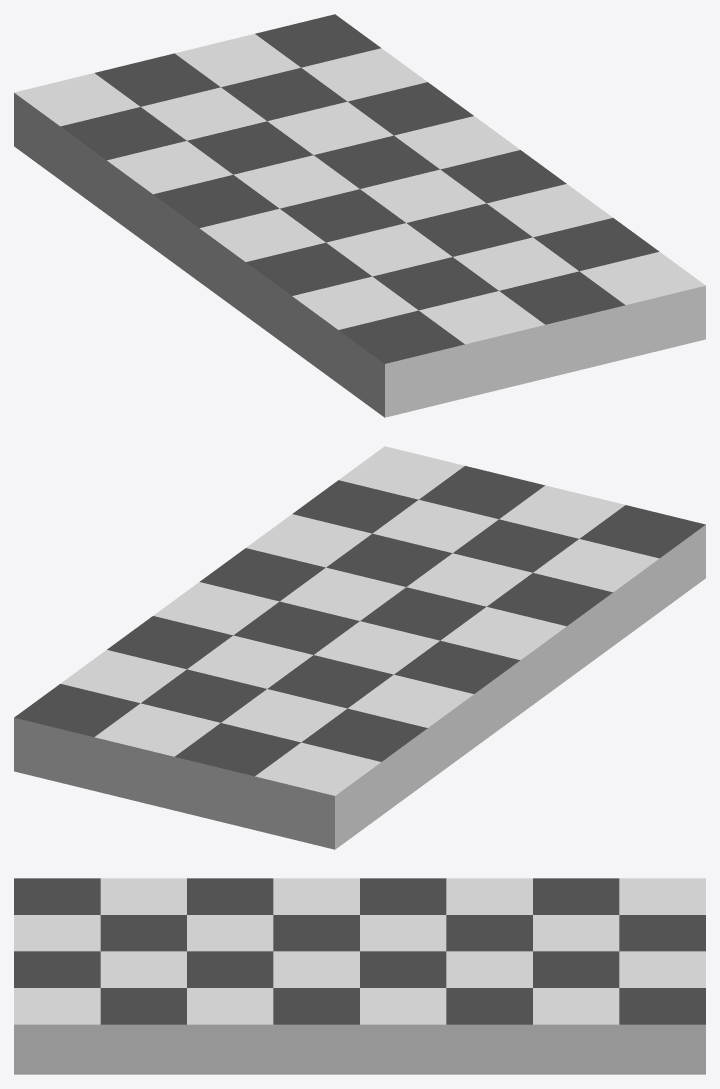
Rendered from Floor1_02.fbx.
The picture shows the model from 3 angles, top to bottom: view 1: azimuth 30°, elevation 25°; view 2: azimuth 150°, elevation 25°; view 3: azimuth 270°, elevation 25°; orthographic projection. The views are drawn at different scales.
Visible parts, largest first — view 1: Floor1_02; view 2: Floor1_02; view 3: Floor1_02.
Part boxes in pixels (x1=…): Floor1_02: x1=14, y1=14, x2=705, y2=417; Floor1_02: x1=14, y1=446, x2=705, y2=849; Floor1_02: x1=14, y1=878, x2=705, y2=1074.
Size of the model in its own units: 125 by 20 by 250.
